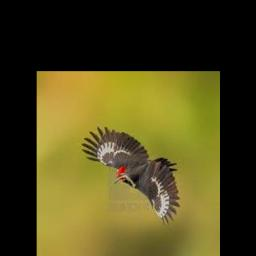Woodpecker: (81, 126, 181, 225)
